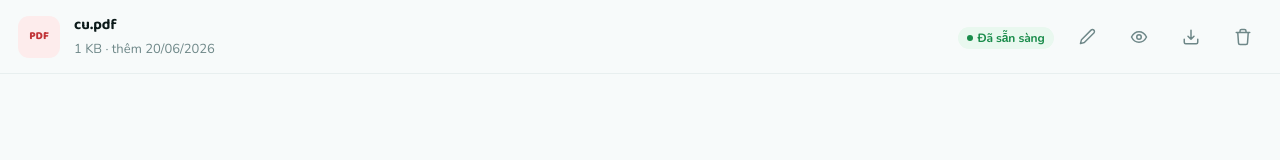
it: DocRow › ẩn nút action khi đang sửa tên (tránh race blur-lưu khi bấm Xoá)
Expected: the button named "Xoá" is shown, [1224, 18, 1262, 56]
Click the button named "Đổi tên" at (1087,37), box [1068, 18, 1106, 56]
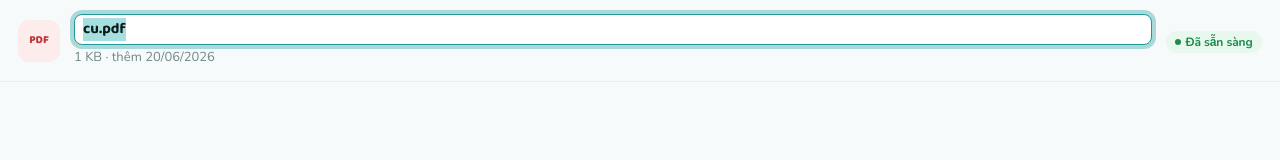
Expected: the field named "Tên tài liệu" is shown, [74, 14, 1152, 45]
Expected: the button "Xoá" is gone
Expected: the button "Xem" is gone
